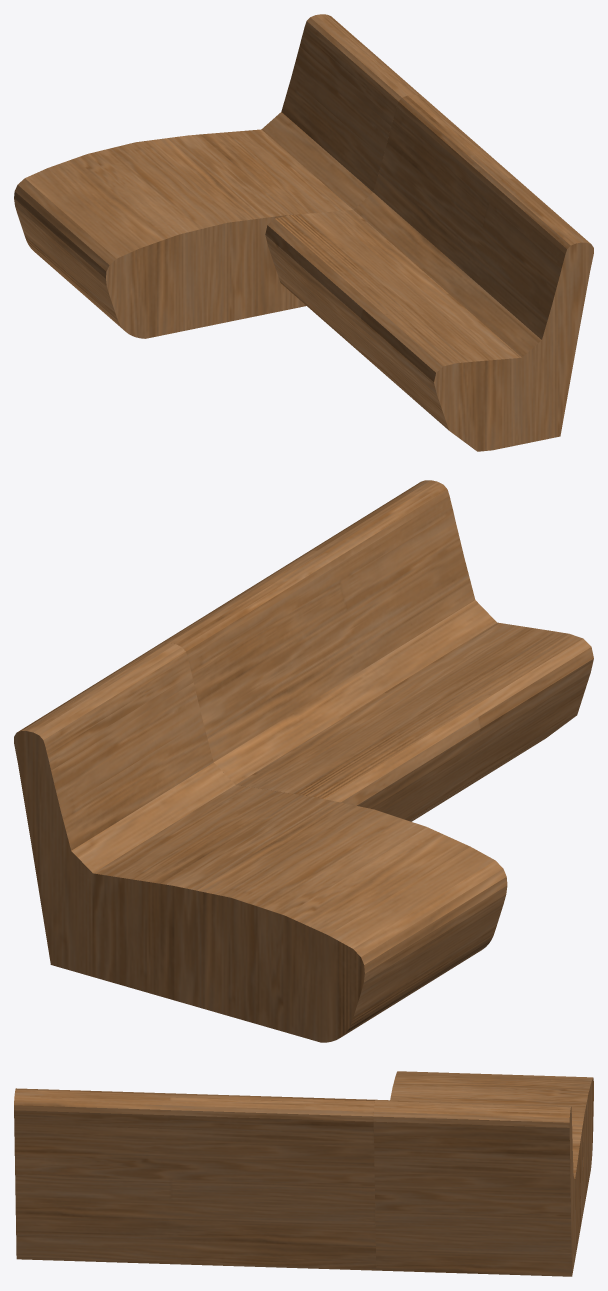
File: Chair.glb
3 views of the same model, one above another, from view 1: azimuth 30°, elevation 25°; view 2: azimuth 150°, elevation 25°; view 3: azimuth 270°, elevation 25° (orthographic). The views are drawn at different scales.
Visible parts, largest first — view 1: Geom3D_.440, Geom3D_.439; view 2: Geom3D_.439, Geom3D_.440; view 3: Geom3D_.440, Geom3D_.439.
Boxes of the visible parts, box(x1,y1,x2,y2) form: Geom3D_.440: box(265, 94, 593, 451); Geom3D_.439: box(14, 14, 421, 338); Geom3D_.439: box(14, 642, 507, 1042); Geom3D_.440: box(160, 480, 593, 821); Geom3D_.440: box(14, 1088, 376, 1270); Geom3D_.439: box(373, 1071, 593, 1276).
Size of the model in its own units: 1.4 by 0.7927 by 2.36.
1 material, 1 textured.
